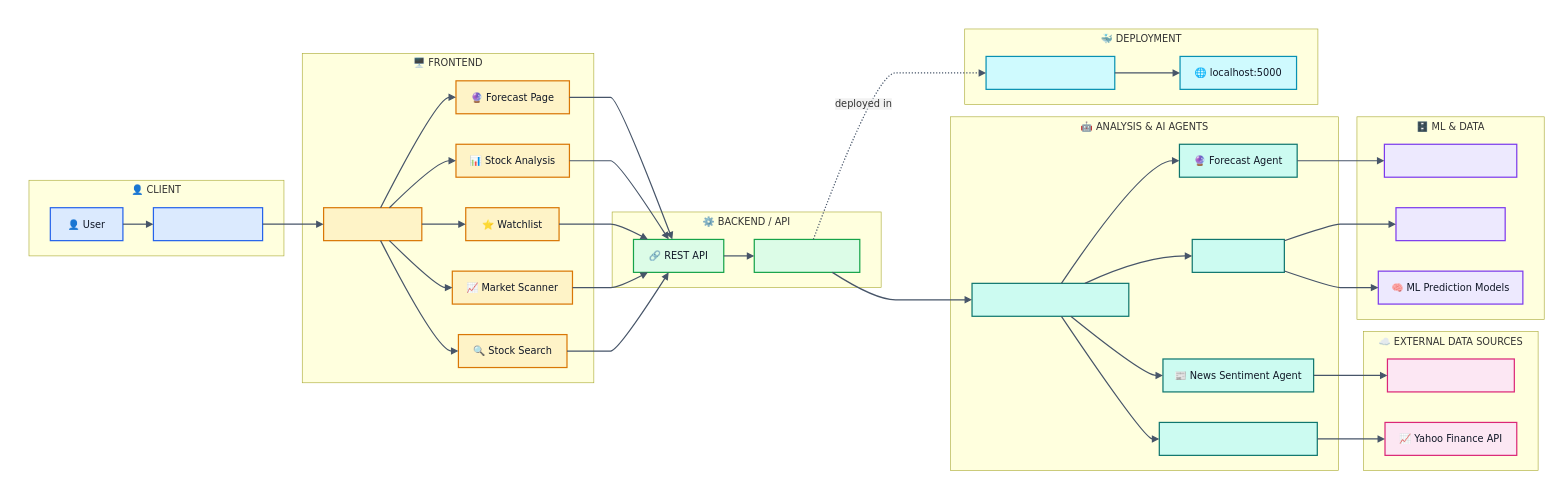
Image size: 1555x481. Some labels were removed from this diagram. The centre of each missing label's shape, as x and y in pixels:
🌐 Web Browser: pixel 207 224
🐍 Flask Server: pixel 806 256
🐳 Docker Container: pixel 1050 73
💾 Trained ML Models: pixel 1450 160
📄 CSV Datasets: pixel 1450 224
📉 Technical Analysis Agent: pixel 1238 439
📊 Dashboard: pixel 372 224
📰 Google News RSS: pixel 1451 375
🤖 ML Agent: pixel 1238 256
🧠 Master / Decision Agent: pixel 1050 299
